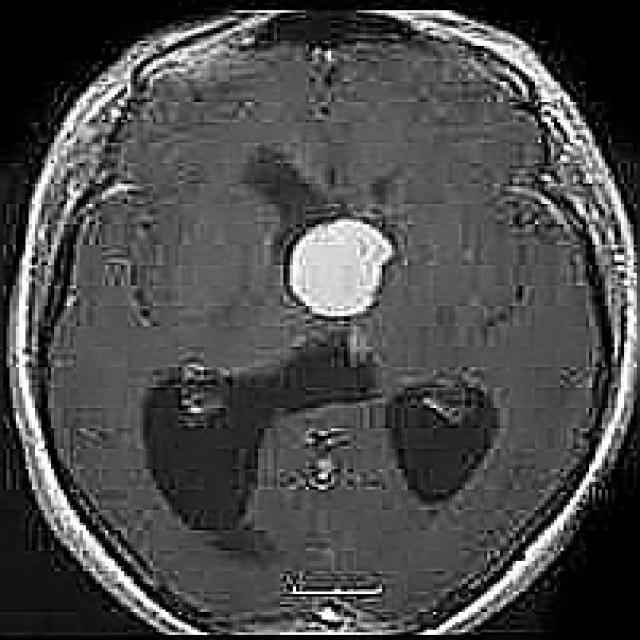Tumor-Cell: (280, 214, 416, 344)
